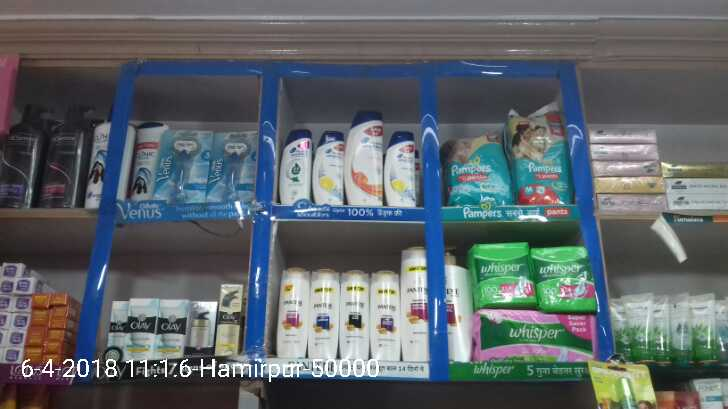venus: (207, 129, 258, 202), (158, 130, 207, 202)
